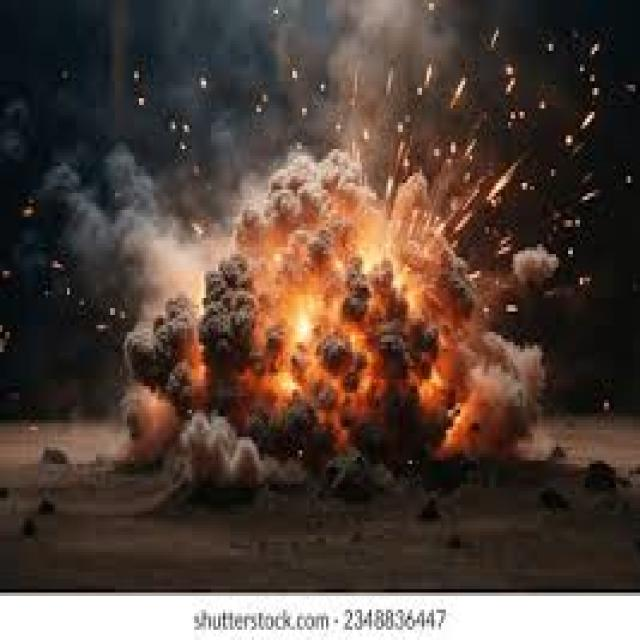explosion: (117, 139, 564, 548)
